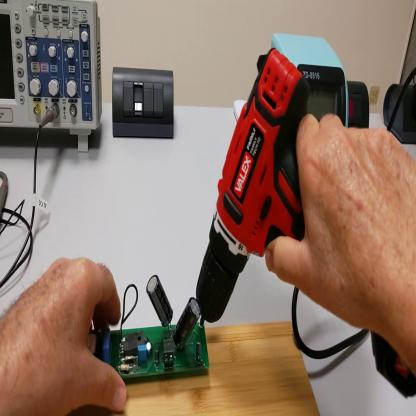electric screwdriver: (199, 46, 416, 402)
hand: (266, 106, 416, 348), (2, 260, 129, 416)
high voltage board: (90, 276, 210, 381)
oscilloscope: (2, 3, 102, 153)
oscilloscope probe tip: (1, 173, 9, 230)
socket: (385, 82, 416, 141), (346, 79, 369, 133)
welder station: (272, 29, 351, 135)
working area: (80, 322, 321, 416)
